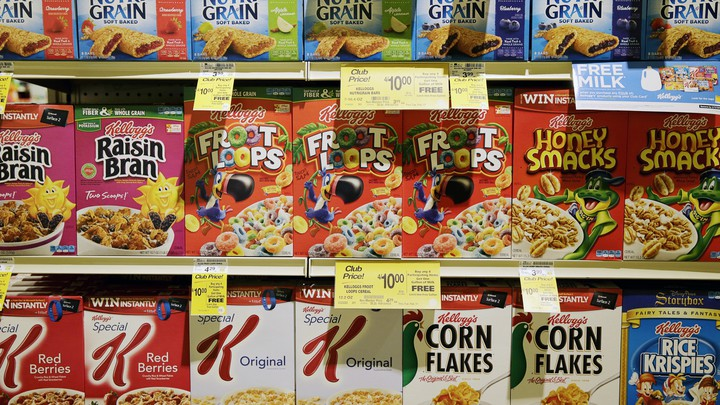cereal: (511, 88, 621, 258), (295, 95, 403, 259), (184, 97, 293, 255), (407, 96, 512, 259), (73, 105, 184, 255), (626, 89, 720, 261), (511, 290, 626, 405), (404, 288, 512, 405), (297, 287, 403, 405), (191, 292, 294, 405), (85, 297, 192, 405), (625, 296, 720, 405), (1, 296, 83, 405)
